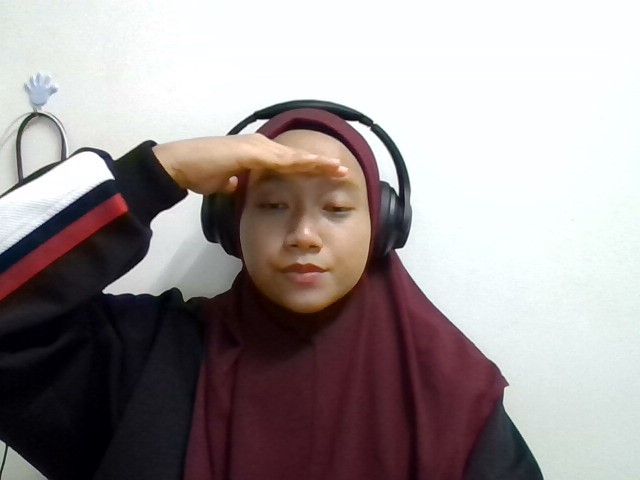Johor: (186, 133, 362, 197)
